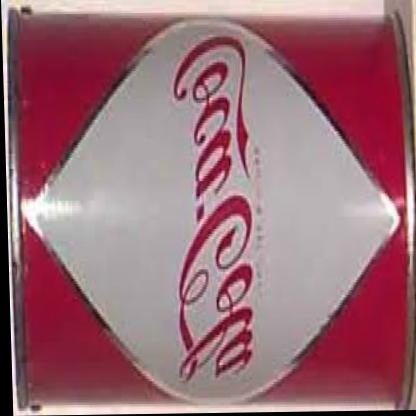trash: (8, 5, 414, 414)
